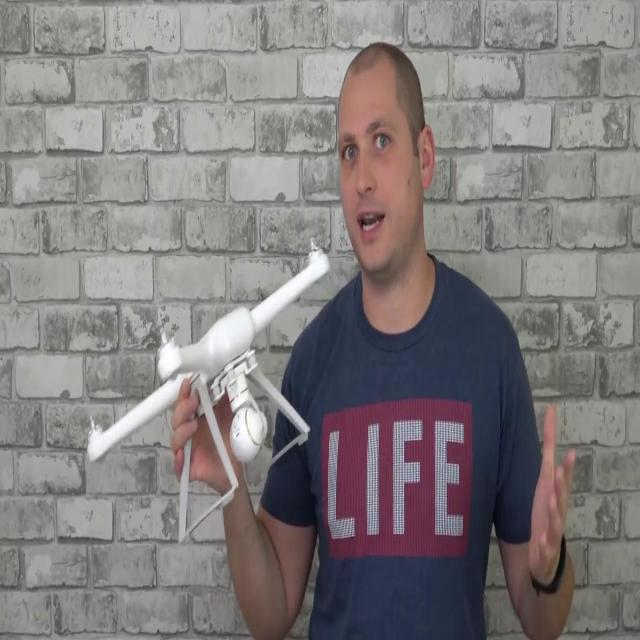drone: (47, 211, 355, 602)
